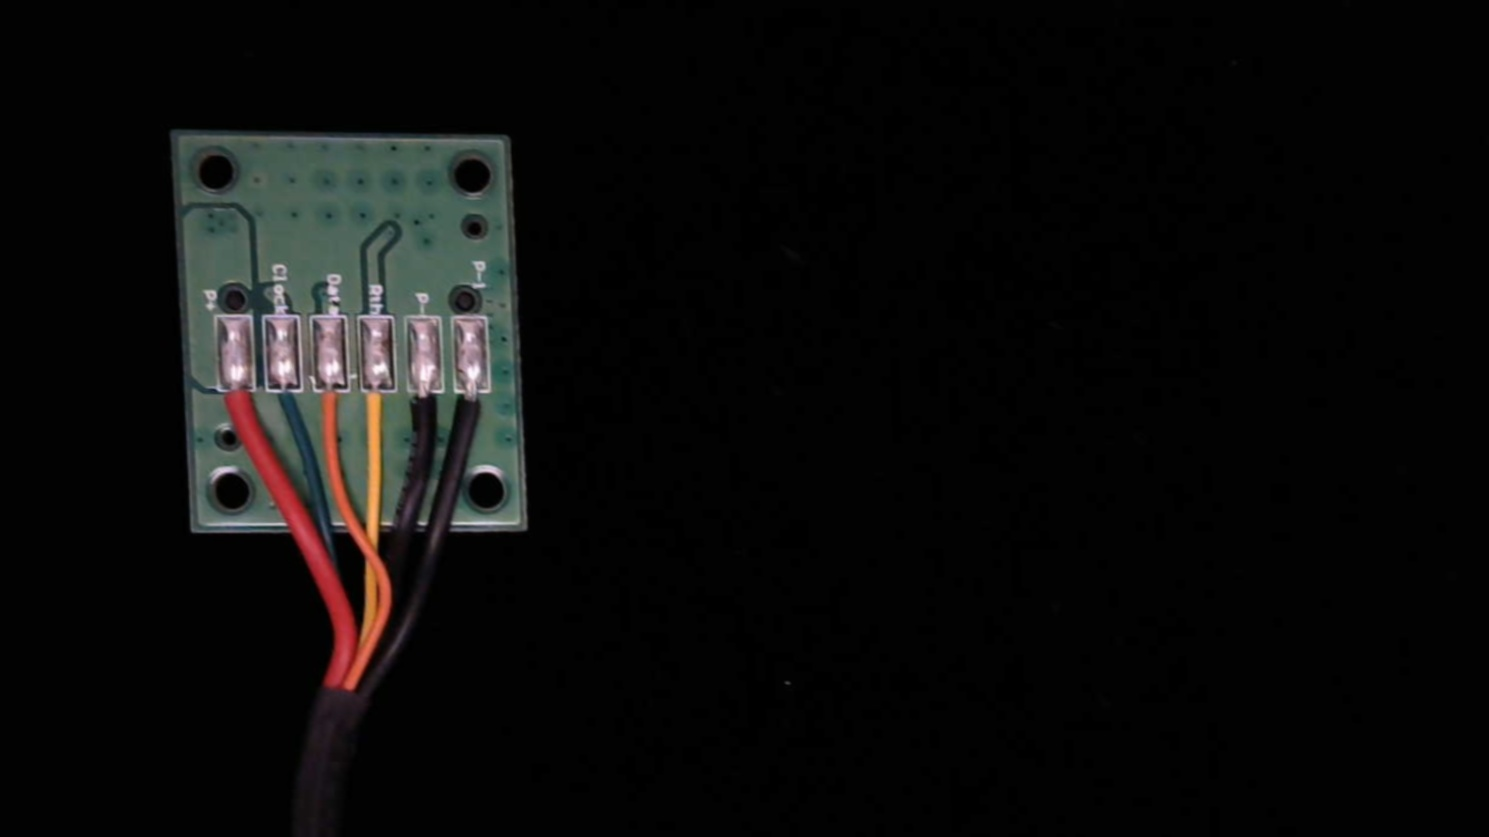Black: (405, 376, 442, 449)
Black1: (453, 377, 493, 446)
Green: (265, 375, 308, 438)
Orange: (313, 373, 352, 443)
Red: (215, 376, 259, 443)
Yellow: (357, 375, 399, 450)
